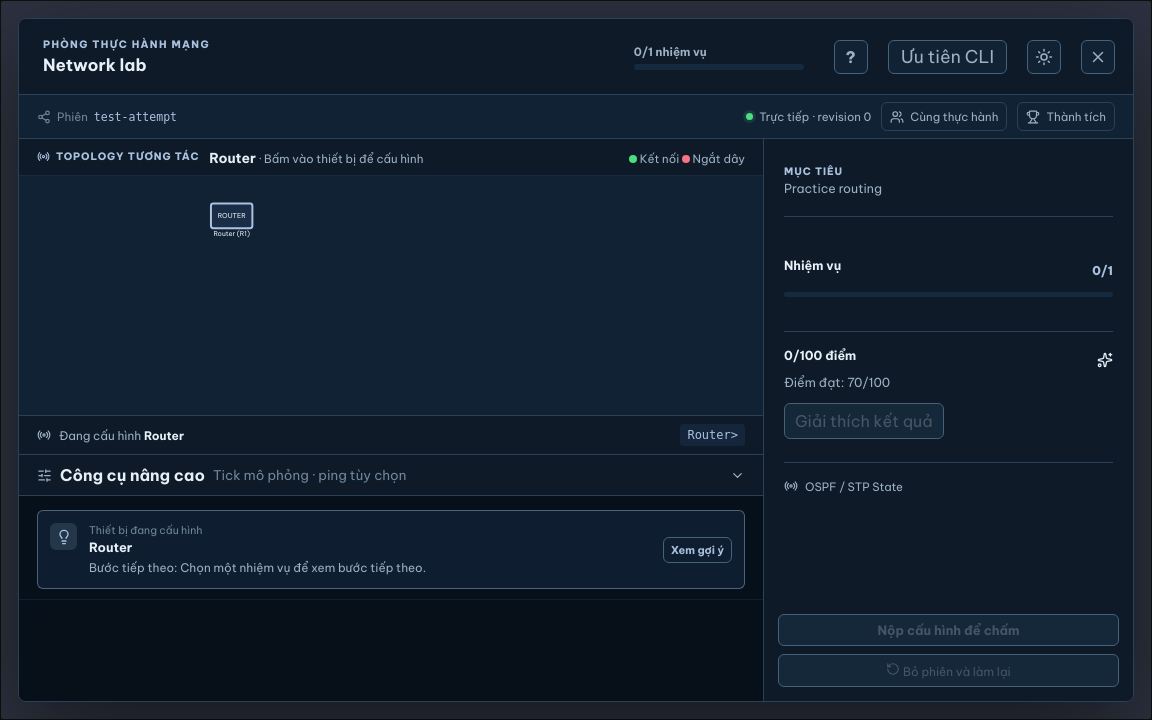
Test: feedback explains with Gemini provenance and renders model text without HTML
What coordinates should you click on to do the following:
click the button "Giải thích kết quả"
I would click on:
 (864, 421)
Its box is [784,403,944,439].
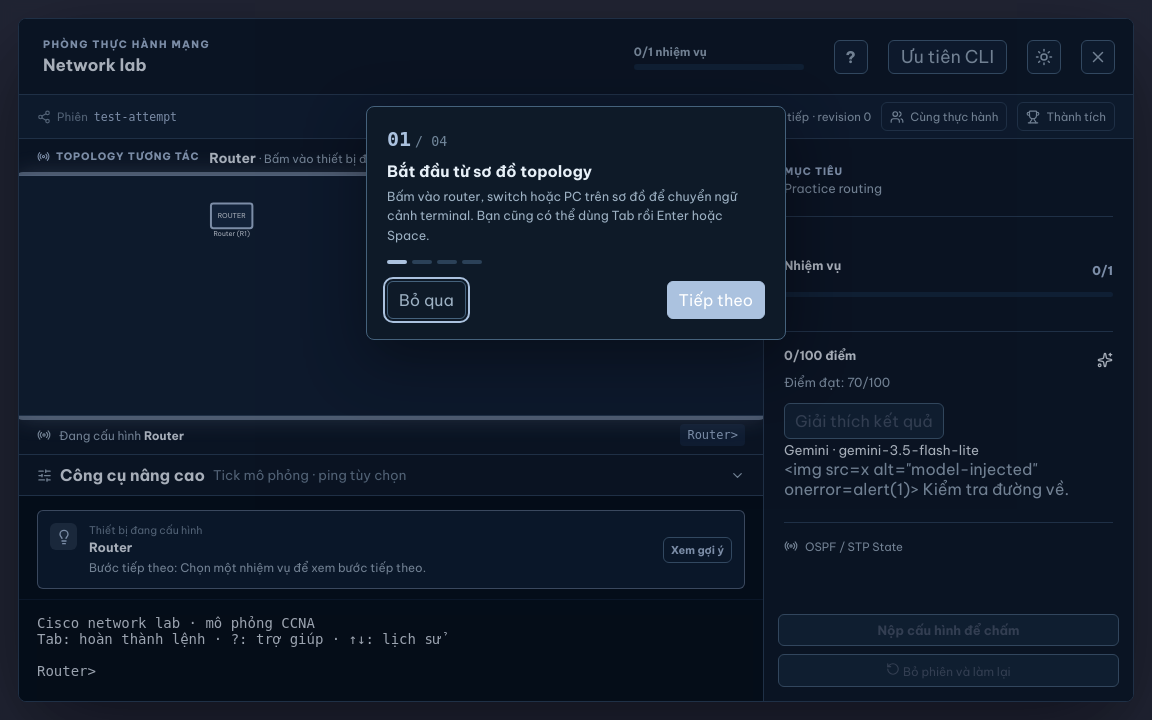
Expected: the text "Gemini · gemini-3.5-flash-lite" is shown, [784,442,979,459]
Expected: the text "<img src=x alt=\"model-injected\" onerror=alert(1)> Kiểm tra đường về." is shown, [784,459,1113,499]
